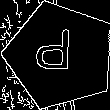P_S: (40, 29, 80, 82)
